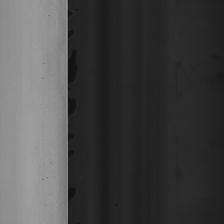inclusion: (41, 174, 48, 182), (40, 74, 45, 83)
